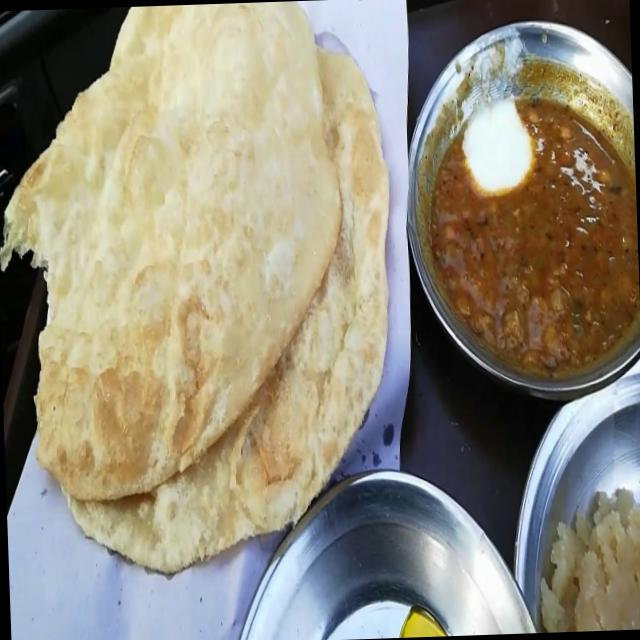Bhatura: (0, 0, 401, 577)
